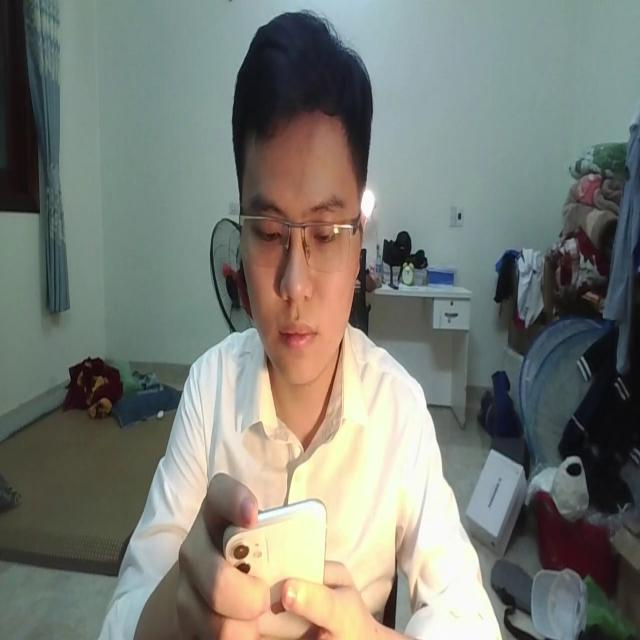phone: (220, 493, 326, 623)
student: (86, 10, 499, 640)
